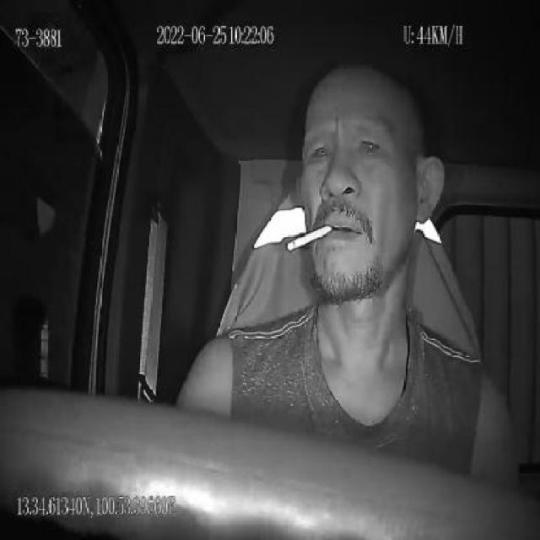smoking: (286, 222, 332, 252)
